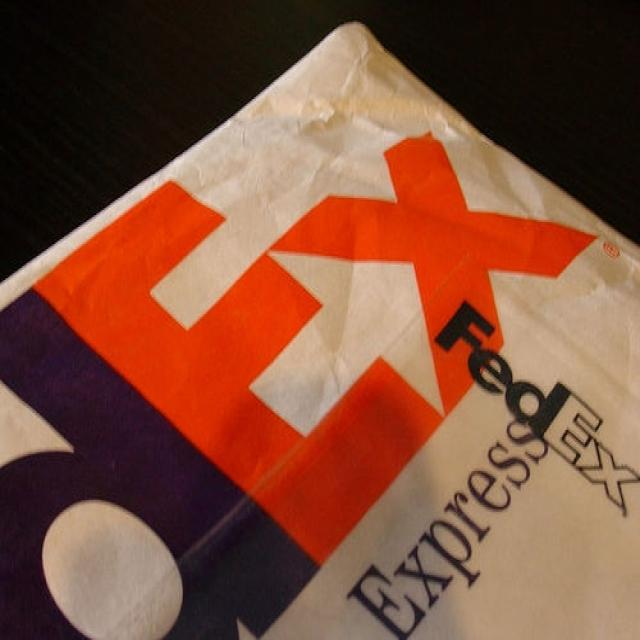fedex: (2, 102, 612, 639), (429, 291, 640, 525)
